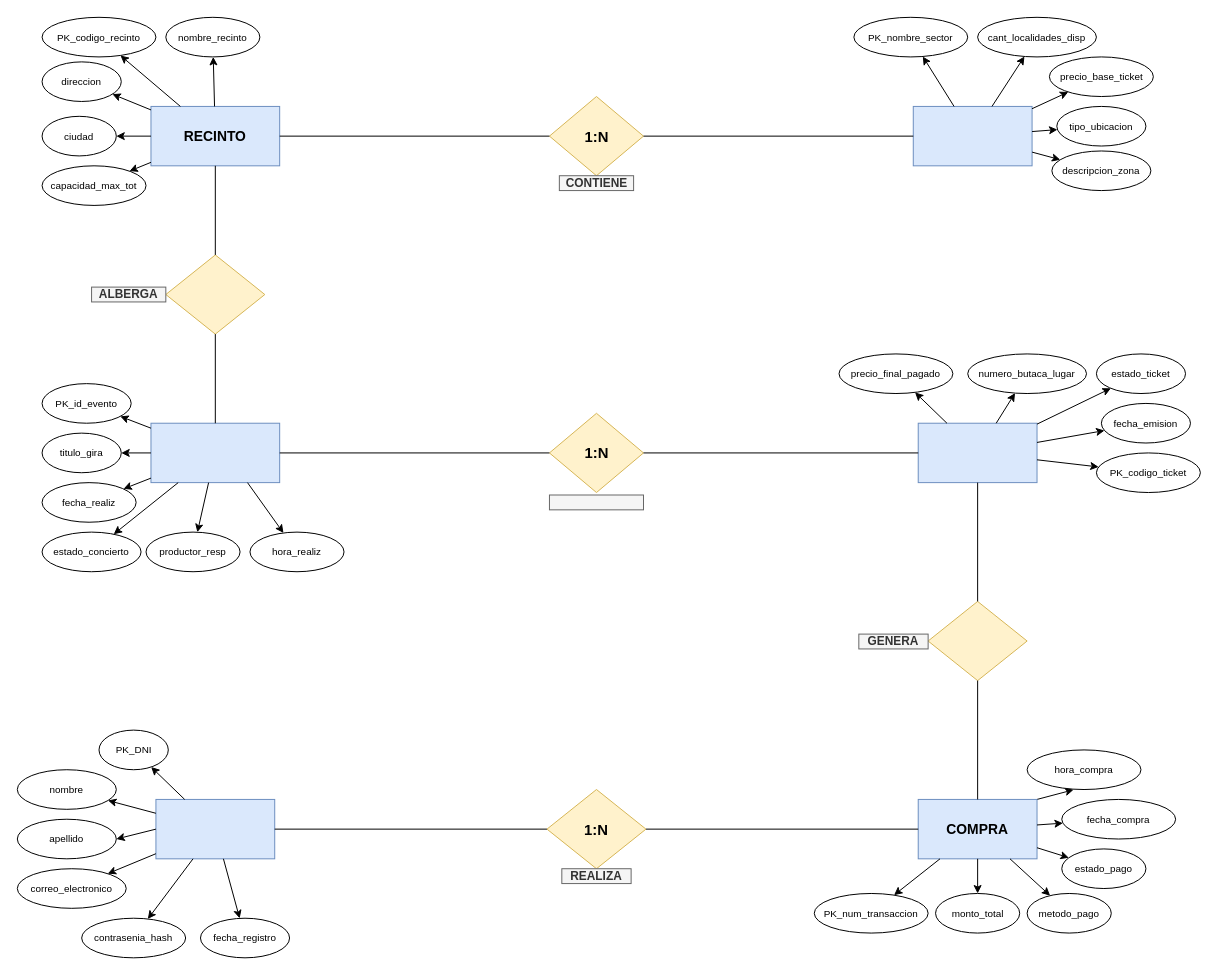
Image size: 1218x975. Some labels were removed from this diagram. Each missing label, with the centre of its shape:
"1 : N" goes at pixel 215 294.
"CLIENTE" goes at pixel 215 828.
"CONCIERTO" goes at pixel 215 452.
"CORRESPONDE" goes at pixel 596 502.
"N : 1" goes at pixel 977 640.
"SECTOR" goes at pixel 972 135.
"TICKET" goes at pixel 977 452.
